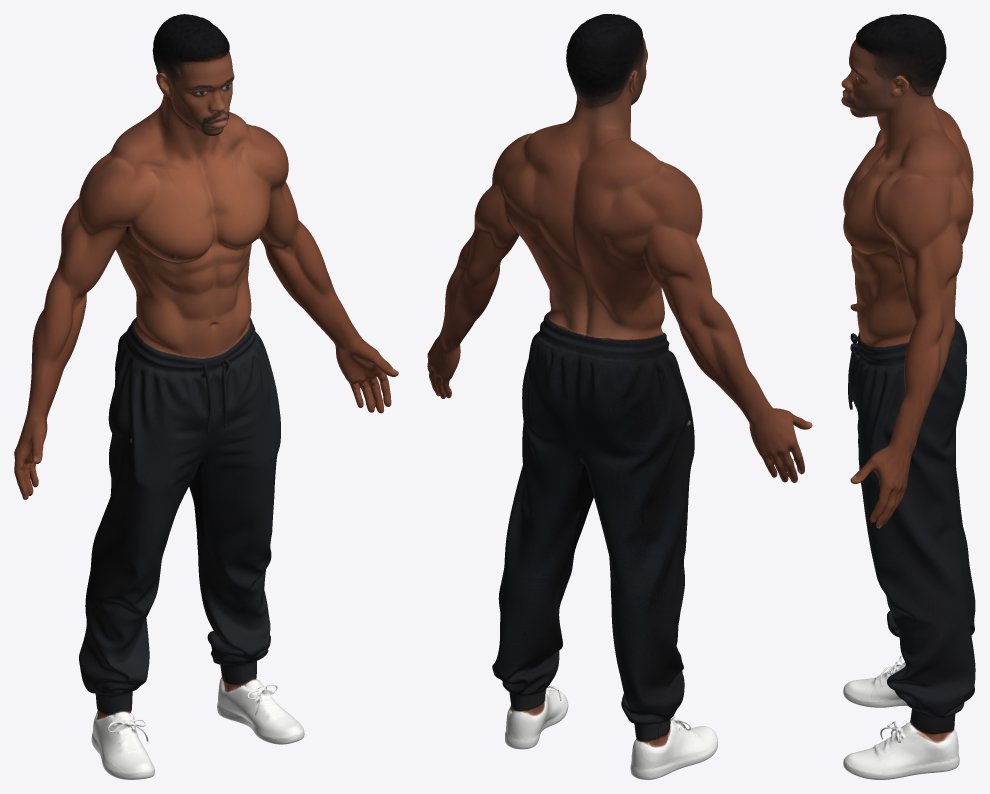
Rendered from Black Male.glb.
3 views of the same model, side by side, from view 1: azimuth 30°, elevation 25°; view 2: azimuth 150°, elevation 25°; view 3: azimuth 270°, elevation 25° (orthographic).
Visible parts, largest first — view 1: mesh_node; view 2: mesh_node; view 3: mesh_node.
Boxes of the visible parts, x1=… form: mesh_node: x1=14, y1=14, x2=398, y2=779; mesh_node: x1=427, y1=14, x2=812, y2=779; mesh_node: x1=841, y1=14, x2=975, y2=779.
Size of the model in its own units: 1.02 by 1.9 by 0.3214.
Materials: 1 (1 with a texture image).
